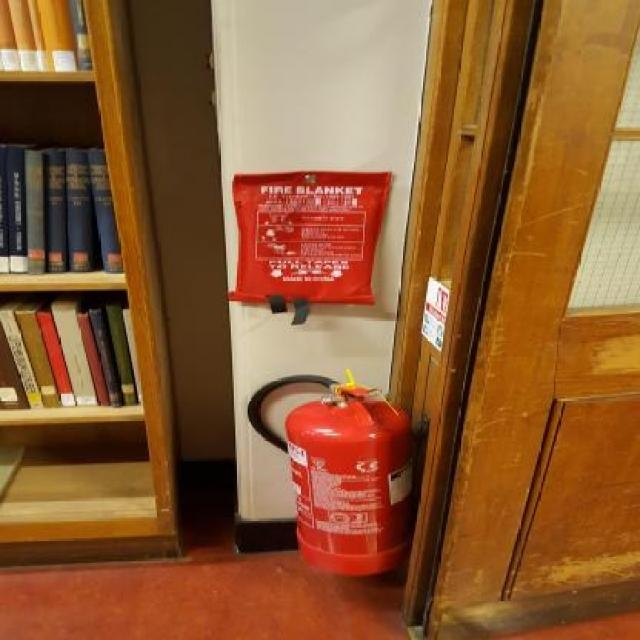fire extinguisher: (246, 374, 422, 578)
